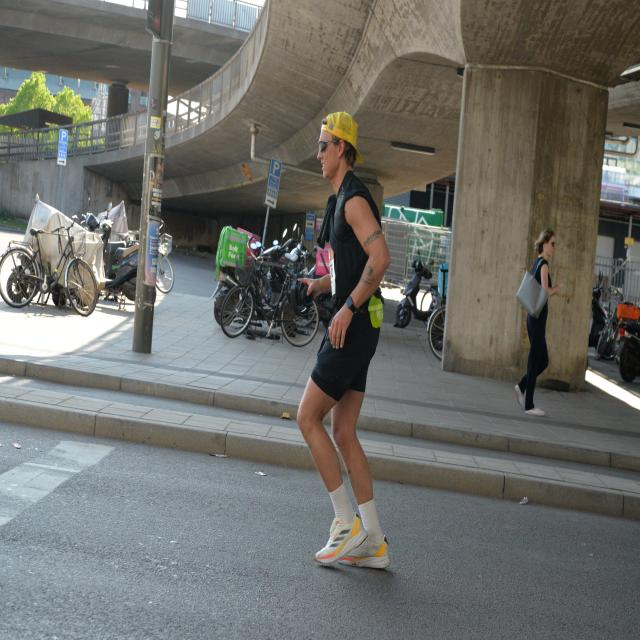runner-detect: (284, 106, 422, 585)
